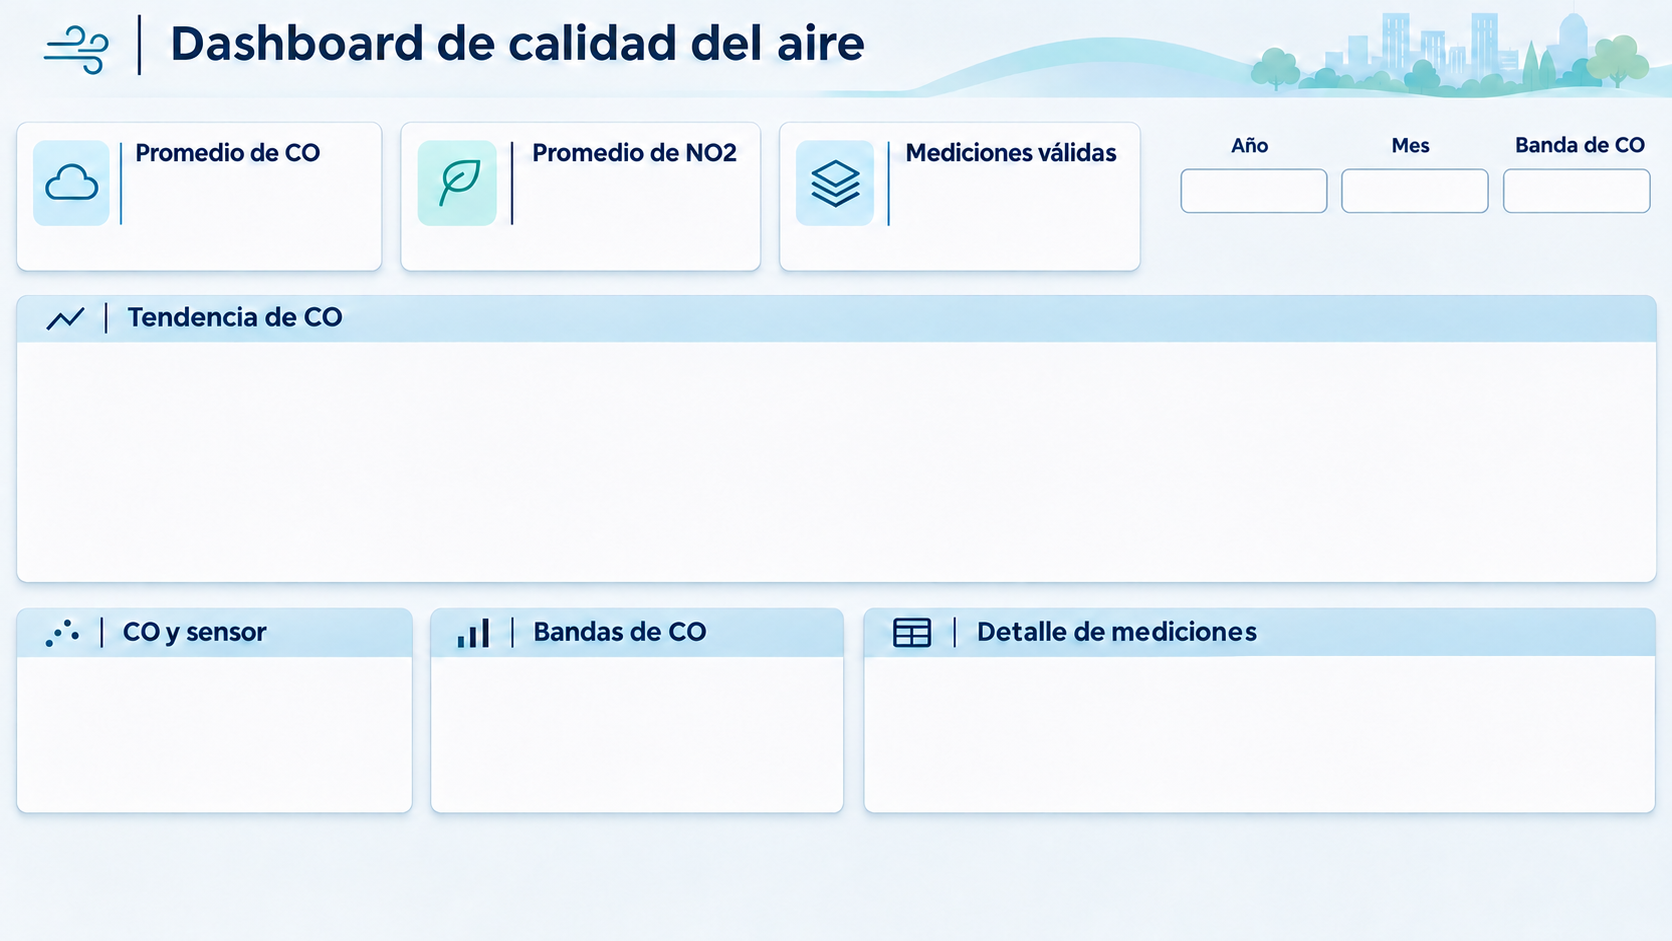

What the dashboard file says about the page in this screenshot:
{"tool":"powerbi","page":{"name":"Página 1","canvas":[1920,1080],"ordinal":0},"visuals":[{"type":"cardVisual","fields":{"Data":["Avg(hecho_calidad_aire.co_gt)"]},"box":[425.1,120.9,300,300],"z":0},{"type":"cardVisual","fields":{"Data":["Avg(hecho_calidad_aire.no2_gt)"]},"box":[74.7,120.9,300,300],"z":1000},{"type":"clusteredColumnChart","fields":{"Category":["hecho_calidad_aire.banda_co"],"Y":["CountNonNull(hecho_calidad_aire.banda_co)"]},"box":[758.7,120.9,300,300],"z":2000},{"type":"scatterChart","fields":{"Category":["hecho_calidad_aire.medicion_id"],"X":["Sum(hecho_calidad_aire.co_gt)"],"Y":["Sum(hecho_calidad_aire.pt08_s1_co)"]},"box":[1088,120,300,300],"z":3000},{"type":"slicer","fields":{"Values":["dim_tiempo.anio"]},"box":[74,432,300,300],"z":4000},{"type":"slicer","fields":{"Values":["dim_tiempo.mes"]},"box":[425,431,300,300],"z":5000},{"type":"slicer","fields":{"Values":["hecho_calidad_aire.banda_co"]},"box":[788.2,461.2,300,300],"z":6000},{"type":"textbox","box":[1398,120,300,300],"z":7000}]}

Visuals, with their boxes in screenshot pixels (x1, y1, x2, y2), scaled from the page's 1920x1080 canvas onto the 1672x941 screenshot:
cardVisual - Avg(hecho_calidad_aire.co_gt): [370, 105, 631, 367]
cardVisual - Avg(hecho_calidad_aire.no2_gt): [65, 105, 326, 367]
clusteredColumnChart - hecho_calidad_aire.banda_co x CountNonNull(hecho_calidad_aire.banda_co): [661, 105, 922, 367]
scatterChart - hecho_calidad_aire.medicion_id x Sum(hecho_calidad_aire.co_gt): [947, 105, 1209, 366]
slicer - dim_tiempo.anio: [64, 376, 326, 638]
slicer - dim_tiempo.mes: [370, 376, 631, 637]
slicer - hecho_calidad_aire.banda_co: [686, 402, 948, 663]
textbox: [1217, 105, 1479, 366]
